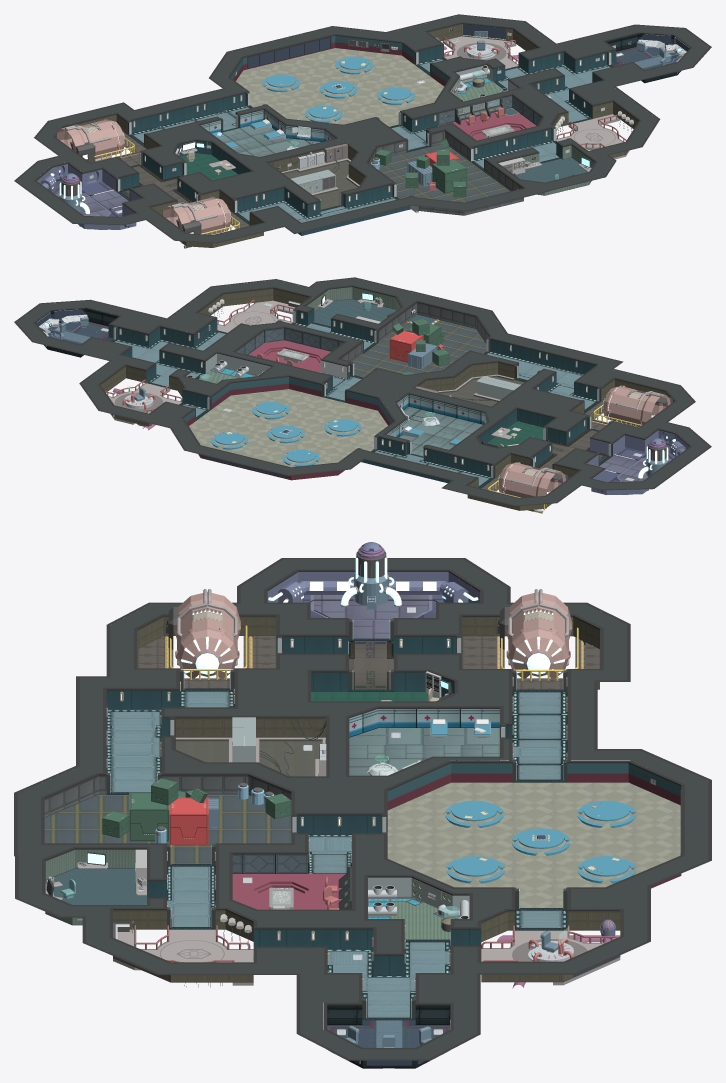
File: map.glb
The picture shows the model from 3 angles, top to bottom: view 1: azimuth 30°, elevation 25°; view 2: azimuth 150°, elevation 25°; view 3: azimuth 270°, elevation 25°; orthographic projection. The views are drawn at different scales.
Visible parts, largest first — view 1: 0080_DarkC, Model, Color_M08, paredes_me, pared_escu, _Color_B05, Color_I07, Color_I04, Translucen, Color_C03, pared_alma, Color_I06 (+23 smaller); view 2: 0080_DarkC, Model, Color_M08, paredes_me, pared_escu, _Color_B05, pared_cafe, Color_I07, Color_I06, pared_alma, Color_I04, Color_J01 (+23 smaller); view 3: 0080_DarkC, Model, Color_M08, paredes_me, pared_escu, _Color_B05, piso_tex01, Color_I07, piso_pasil, pared_cafe, motores_pi, piso_tex03 (+22 smaller).
Boxes of the visible parts, left/top/right/bottom form: 0080_DarkC: left=17, top=15, right=709, bottom=242; Model: left=62, top=33, right=689, bottom=209; Color_M08: left=14, top=14, right=711, bottom=243; paredes_me: left=120, top=45, right=616, bottom=235; pared_escu: left=64, top=24, right=638, bottom=247; _Color_B05: left=56, top=119, right=519, bottom=243; Color_I07: left=262, top=56, right=415, bottom=122; Color_I04: left=58, top=28, right=686, bottom=213; Translucen: left=248, top=24, right=689, bottom=88; Color_C03: left=444, top=36, right=622, bottom=147; pared_alma: left=368, top=131, right=523, bottom=215; Color_I06: left=37, top=37, right=439, bottom=229; 0080_DarkC: left=16, top=278, right=708, bottom=505; Model: left=35, top=287, right=665, bottom=467; Color_M08: left=14, top=277, right=711, bottom=506; paredes_me: left=108, top=309, right=597, bottom=483; pared_escu: left=100, top=288, right=673, bottom=511; _Color_B05: left=498, top=386, right=670, bottom=508; pared_cafe: left=184, top=377, right=393, bottom=480; Color_I07: left=210, top=401, right=361, bottom=466; Color_I06: left=150, top=424, right=689, bottom=494; pared_alma: left=340, top=302, right=488, bottom=361; Color_I04: left=39, top=301, right=667, bottom=480; Color_J01: left=186, top=353, right=520, bottom=445; 0080_DarkC: left=17, top=559, right=708, bottom=1059; Model: left=44, top=545, right=680, bottom=1068; Color_M08: left=14, top=558, right=711, bottom=1060; paredes_me: left=106, top=637, right=512, bottom=975; pared_escu: left=113, top=616, right=620, bottom=982; _Color_B05: left=173, top=592, right=572, bottom=678; piso_tex01: left=106, top=691, right=567, bottom=927; Color_I07: left=445, top=800, right=635, bottom=883; piso_pasil: left=308, top=692, right=567, bottom=873; pared_cafe: left=387, top=763, right=681, bottom=888; motores_pi: left=137, top=636, right=599, bottom=689; piso_tex03: left=106, top=709, right=561, bottom=918.
Bounding box in the file's own units: 67.54 × 3.88 × 39.62.
Materials: 91 (42 with a texture image).
